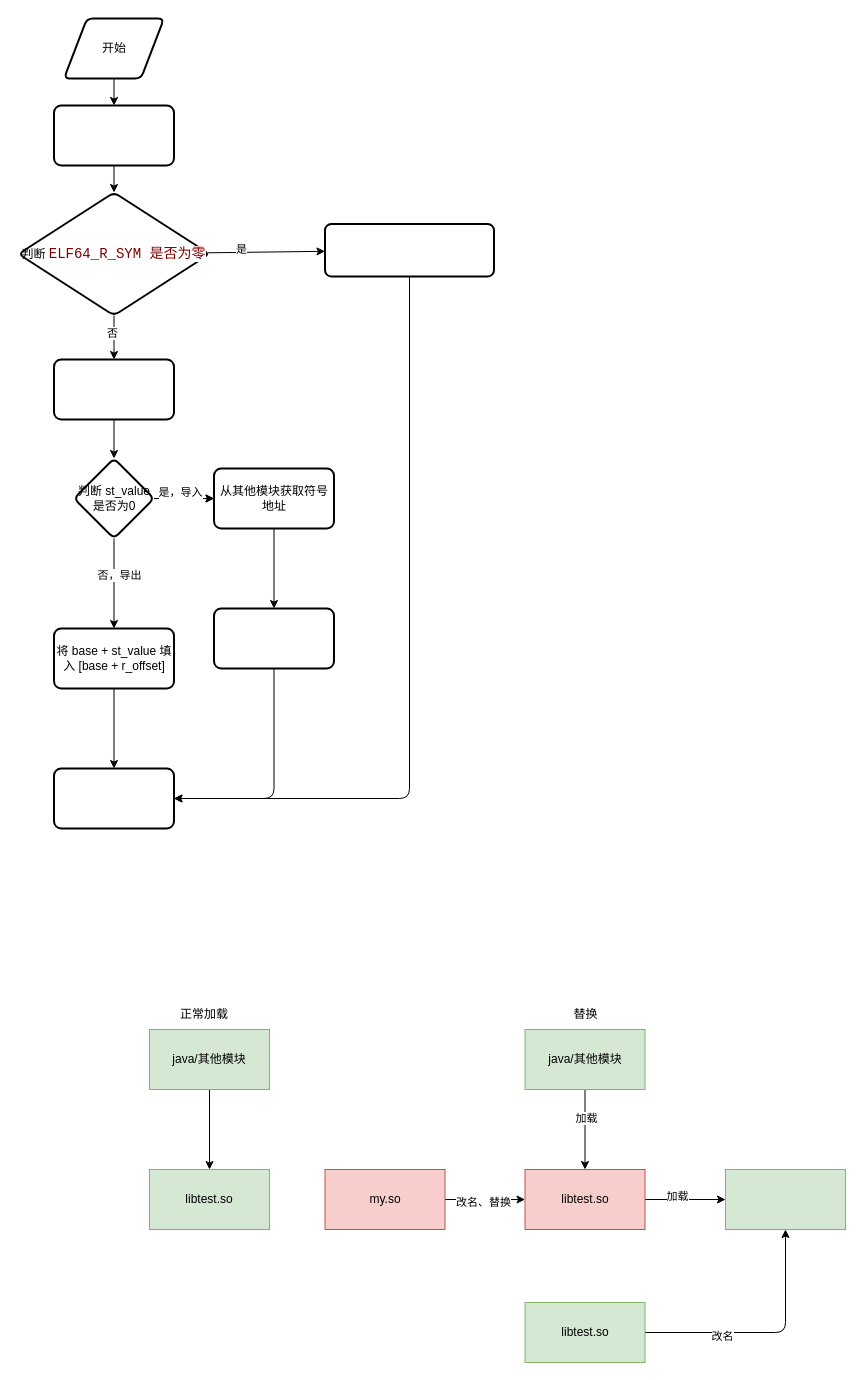
Image size: 863x1380. Some labels were removed from this diagram. Each missing label, with the centre of its shape:
oo.so: [785,1199]
取符号表中的项，解析 Elf64_Sym: [113,389]
填入 [base + r_offset]: [273,638]
将 base + r_addend 填入[base + r_offset]: [409,249]
结束: [113,798]
解析 Elf64_Rela: [113,135]
